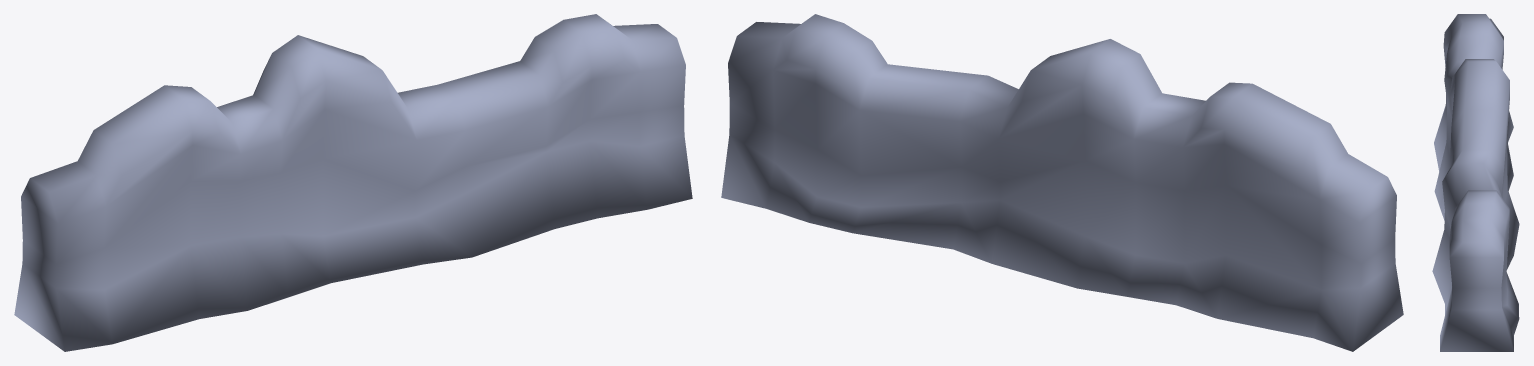
Rendered from Wall_1.fbx.
3 renders of one model, left to right at view 1: azimuth 30°, elevation 25°; view 2: azimuth 150°, elevation 25°; view 3: azimuth 270°, elevation 25°, orthographic. The views are drawn at different scales.
Parts seen in each view (by area): view 1: wall_1; view 2: wall_1; view 3: wall_1.
Boxes of the visible parts, x1=… form: wall_1: x1=14, y1=14, x2=692, y2=351; wall_1: x1=721, y1=14, x2=1403, y2=351; wall_1: x1=1432, y1=14, x2=1519, y2=351.
Bounding box in the file's own units: 400 × 135 × 65.58.
